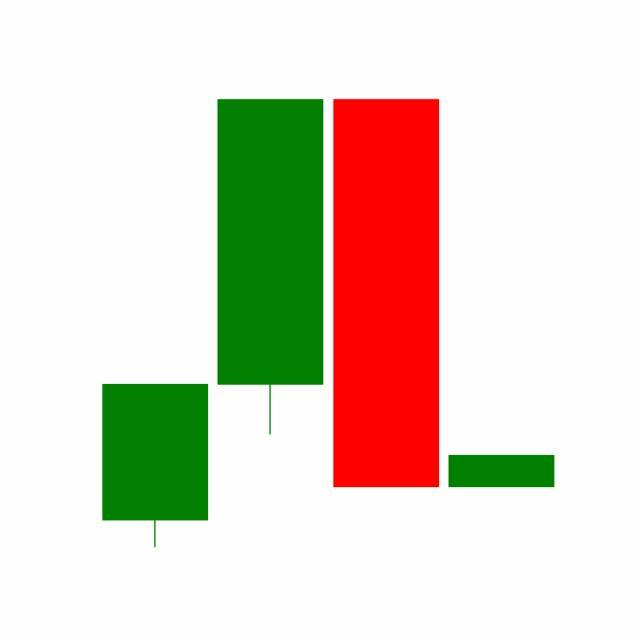Marubozu: (329, 95, 445, 491)
